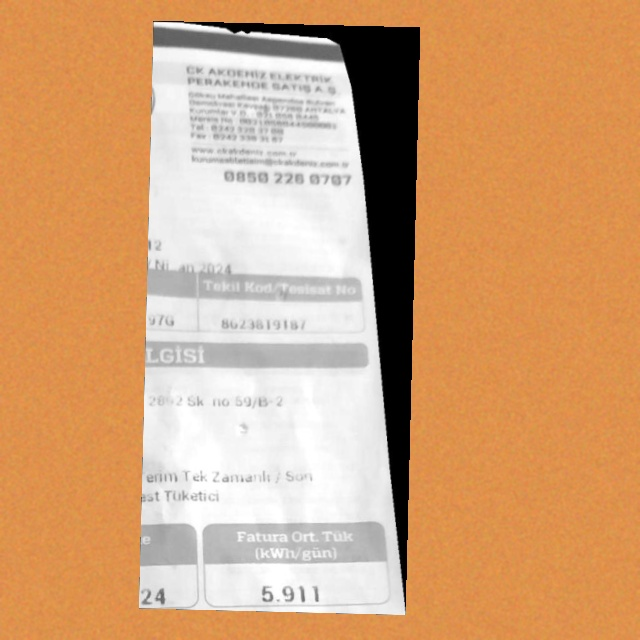electricity-bill: (138, 21, 419, 615)
